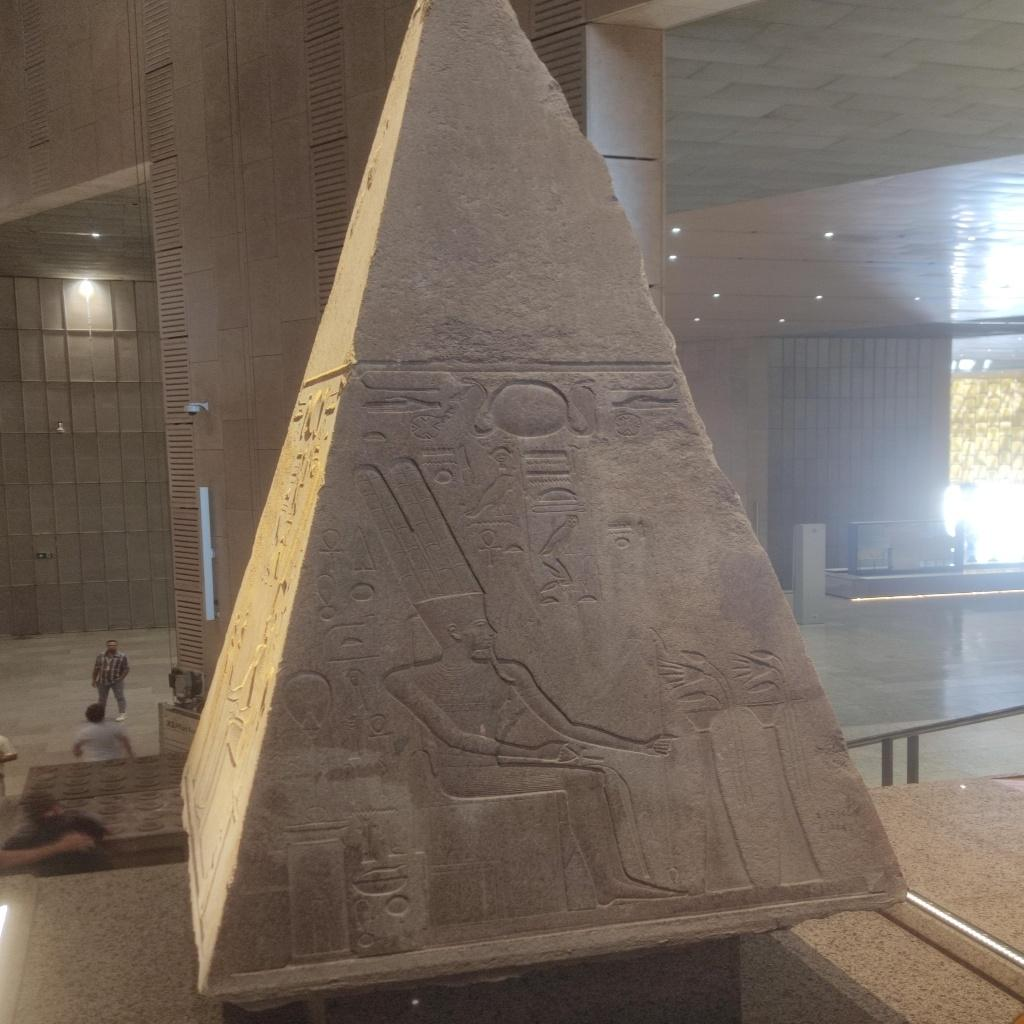Obelsik Tip of Hatshepsut: (184, 0, 920, 988)
